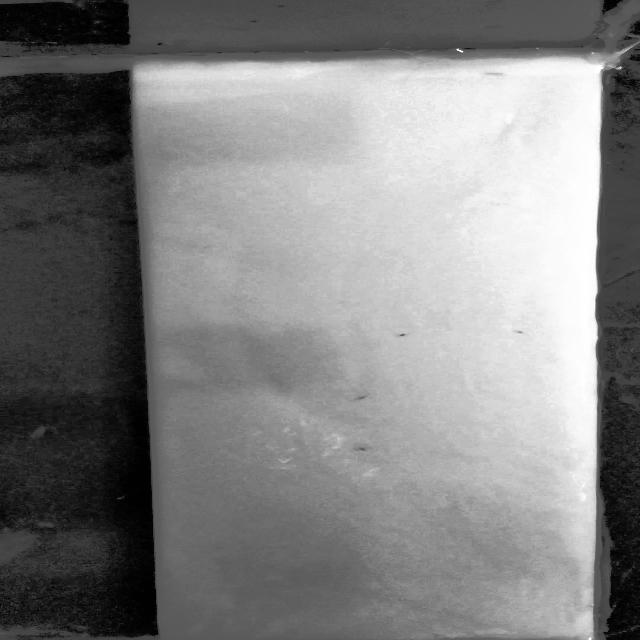shrimp: (337, 440, 375, 458), (384, 324, 416, 344), (342, 392, 372, 410), (498, 325, 528, 342)
